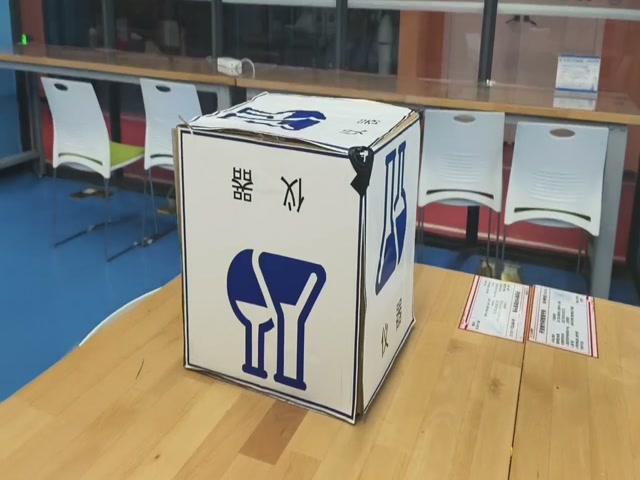Cube_ins: (176, 94, 418, 156)
